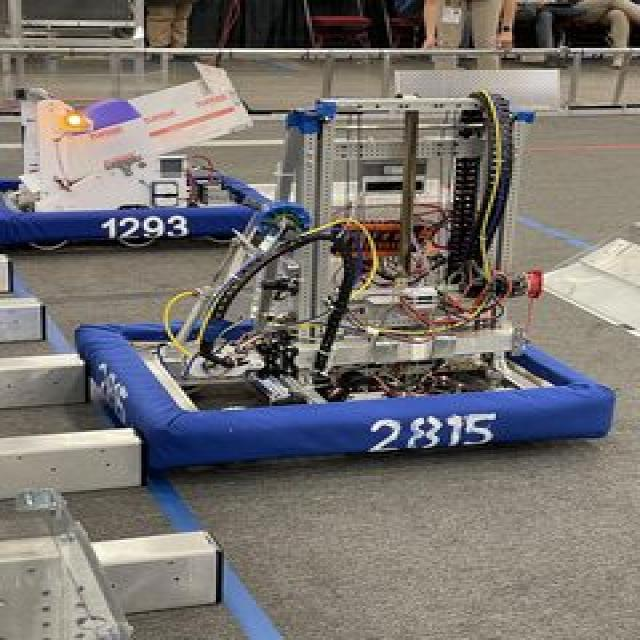robot: (69, 108, 626, 458), (0, 65, 294, 262)
